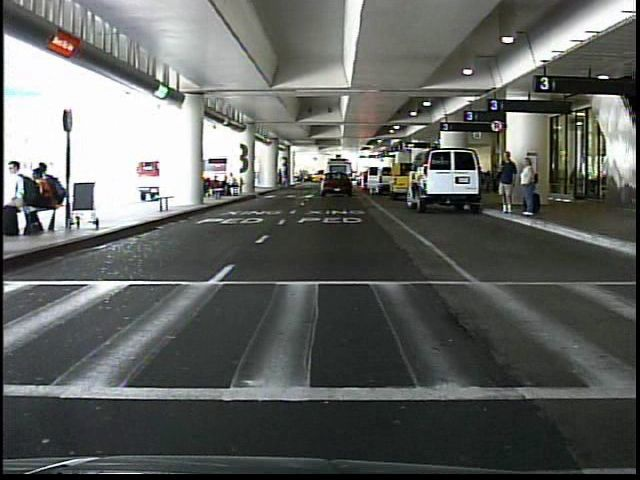person: (495, 146, 518, 217), (518, 154, 540, 223), (330, 171, 340, 193)
